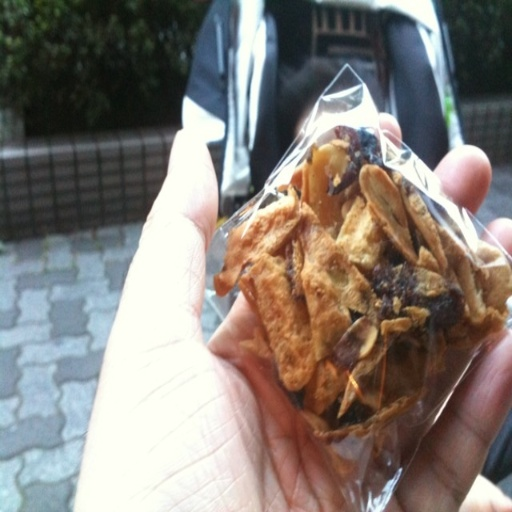hand: (76, 107, 511, 510)
